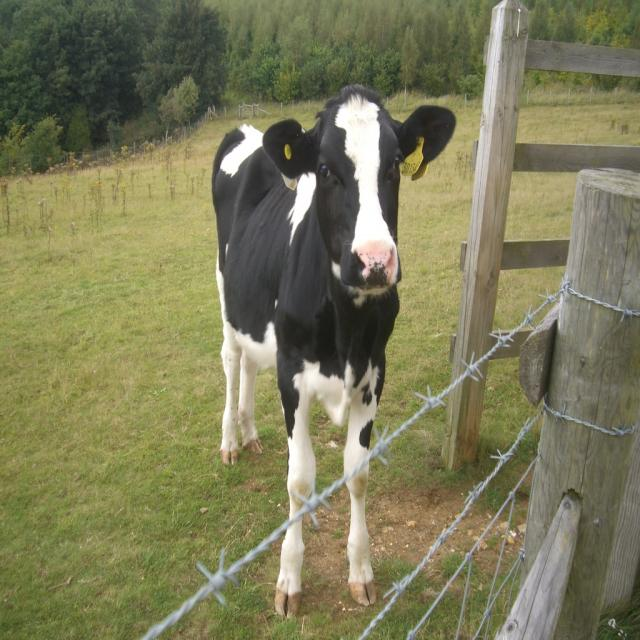Cattle: (212, 83, 456, 619)
